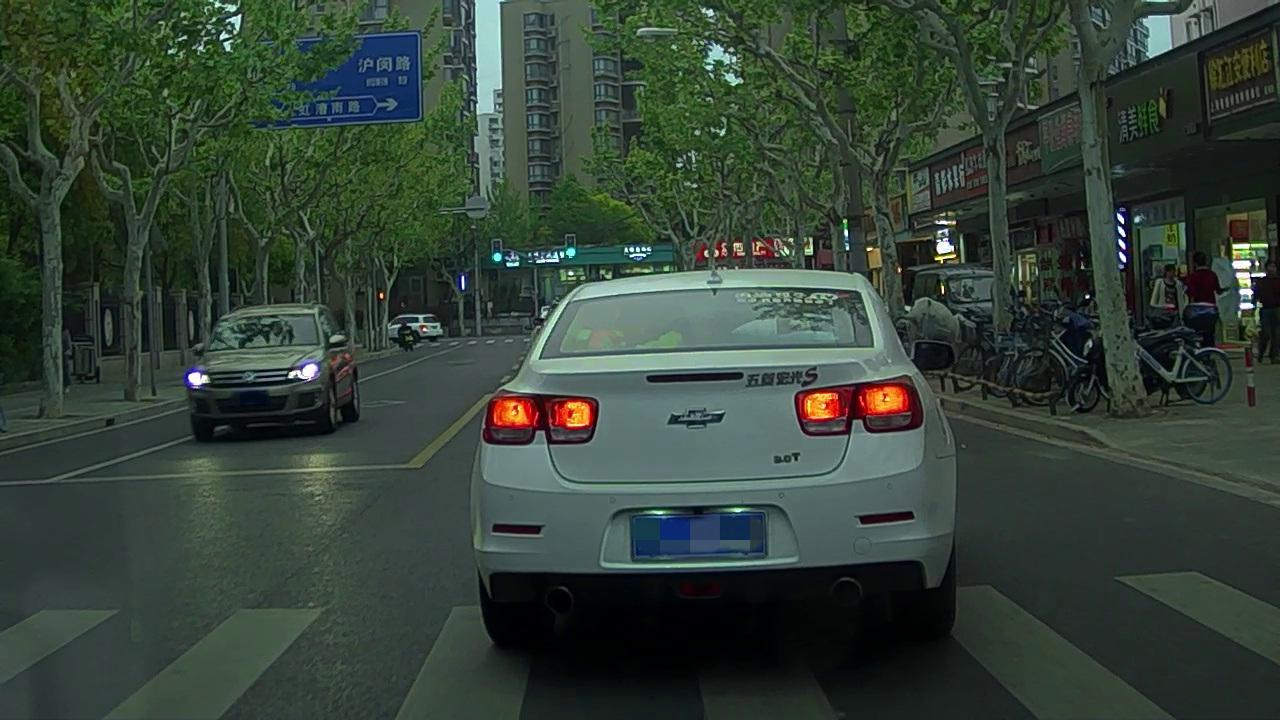traffic_light: (492, 239, 501, 265), (567, 235, 576, 260)
